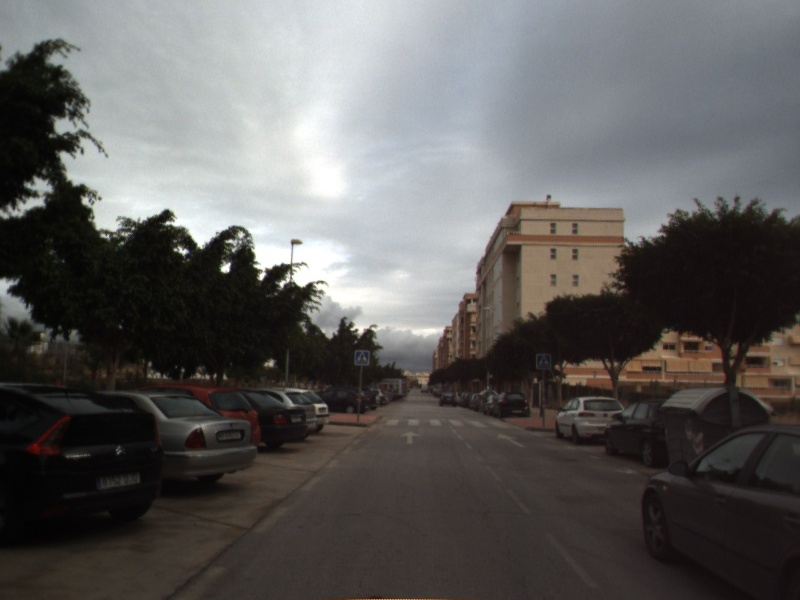STRAIGHT: (495, 432, 526, 449), (399, 429, 423, 445)
